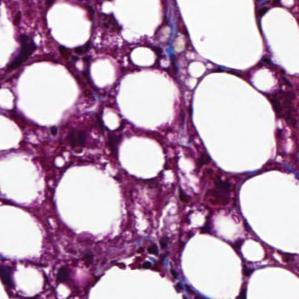inflammation: (124, 231, 173, 271)
